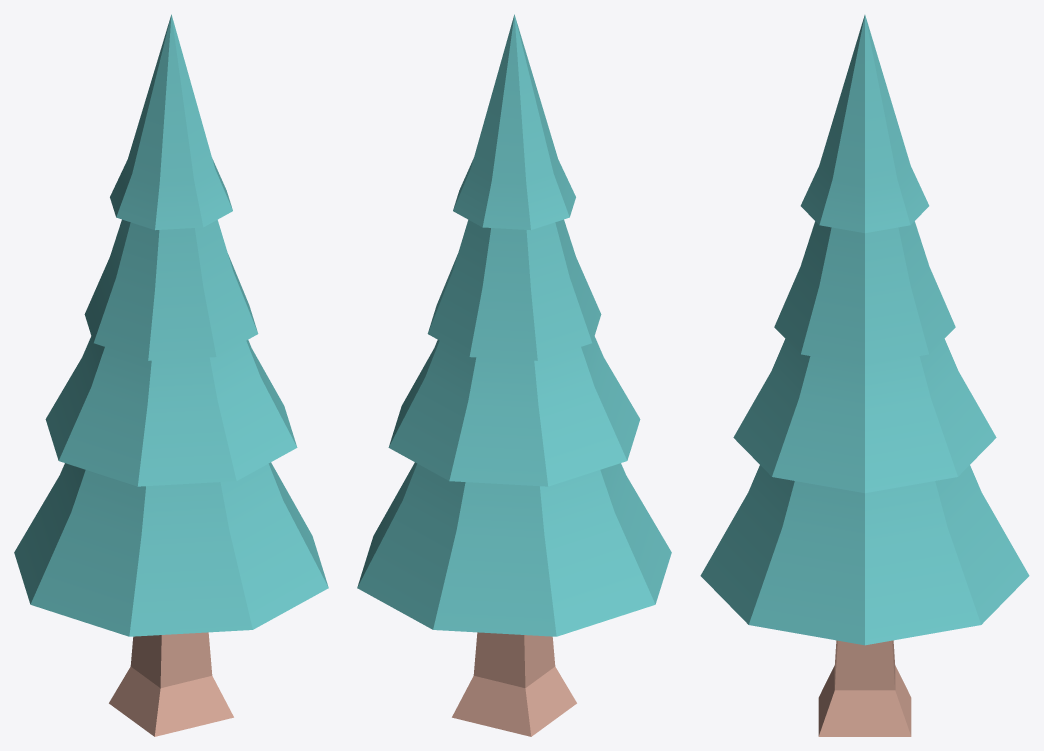
Rendered from tree_pineRoundE.glb.
3 renders of one model, left to right at view 1: azimuth 30°, elevation 25°; view 2: azimuth 150°, elevation 25°; view 3: azimuth 270°, elevation 25°, orthographic.
Parts seen in each view (by area): view 1: tree_pineRoundE; view 2: tree_pineRoundE; view 3: tree_pineRoundE.
Part boxes in pixels (left/top/right/bottom): tree_pineRoundE: left=14, top=14, right=328, bottom=736; tree_pineRoundE: left=357, top=14, right=671, bottom=736; tree_pineRoundE: left=700, top=15, right=1029, bottom=736.
Size of the model in its own units: 0.532 by 1.25 by 0.532.
1 material, 1 textured.
